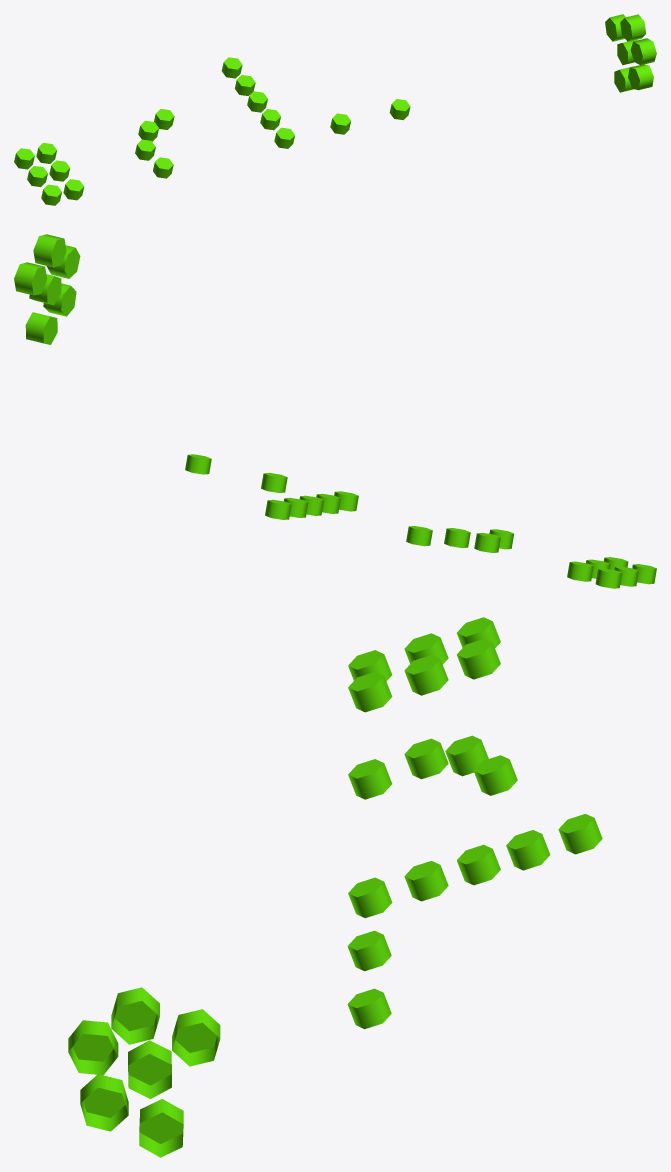
File: BotoesVagaoFinal.fbx
The picture shows the model from 3 angles, top to bottom: view 1: azimuth 30°, elevation 25°; view 2: azimuth 150°, elevation 25°; view 3: azimuth 270°, elevation 25°; orthographic projection. The views are drawn at different scales.
Visible parts, largest first — view 1: Circle.025; view 2: Circle.025; view 3: Circle.025.
Boxes of the visible parts, box(x1,y1,x2,y2) form: Circle.025: box(14, 14, 656, 205); Circle.025: box(14, 234, 656, 588); Circle.025: box(68, 617, 602, 1157).
Bounding box in the file's own units: 8924 × 1611 × 3845.
